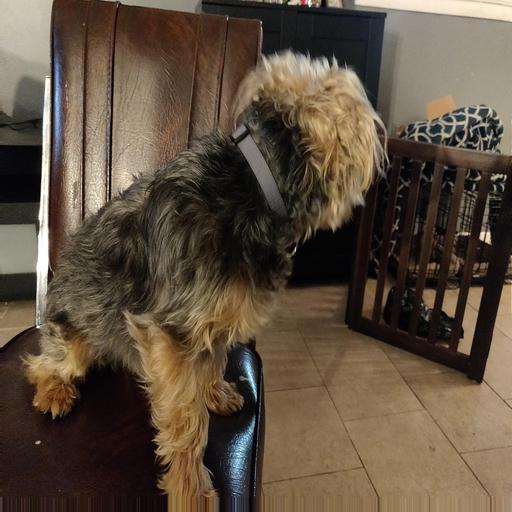dog: (138, 60, 407, 329)
